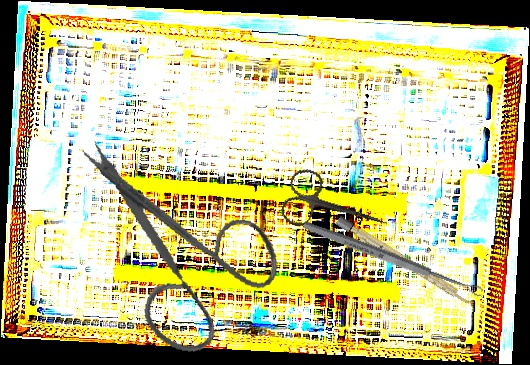Iris Scissors: (46, 137, 295, 365), (278, 164, 396, 253)
Scalpel Handle: (335, 215, 476, 309)
Surgical Spoon: (302, 219, 484, 299)
